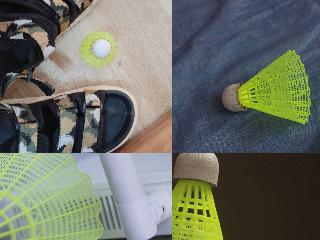shuttlecock: (0, 153, 104, 239), (222, 50, 310, 125), (172, 153, 234, 239), (78, 30, 116, 66)
